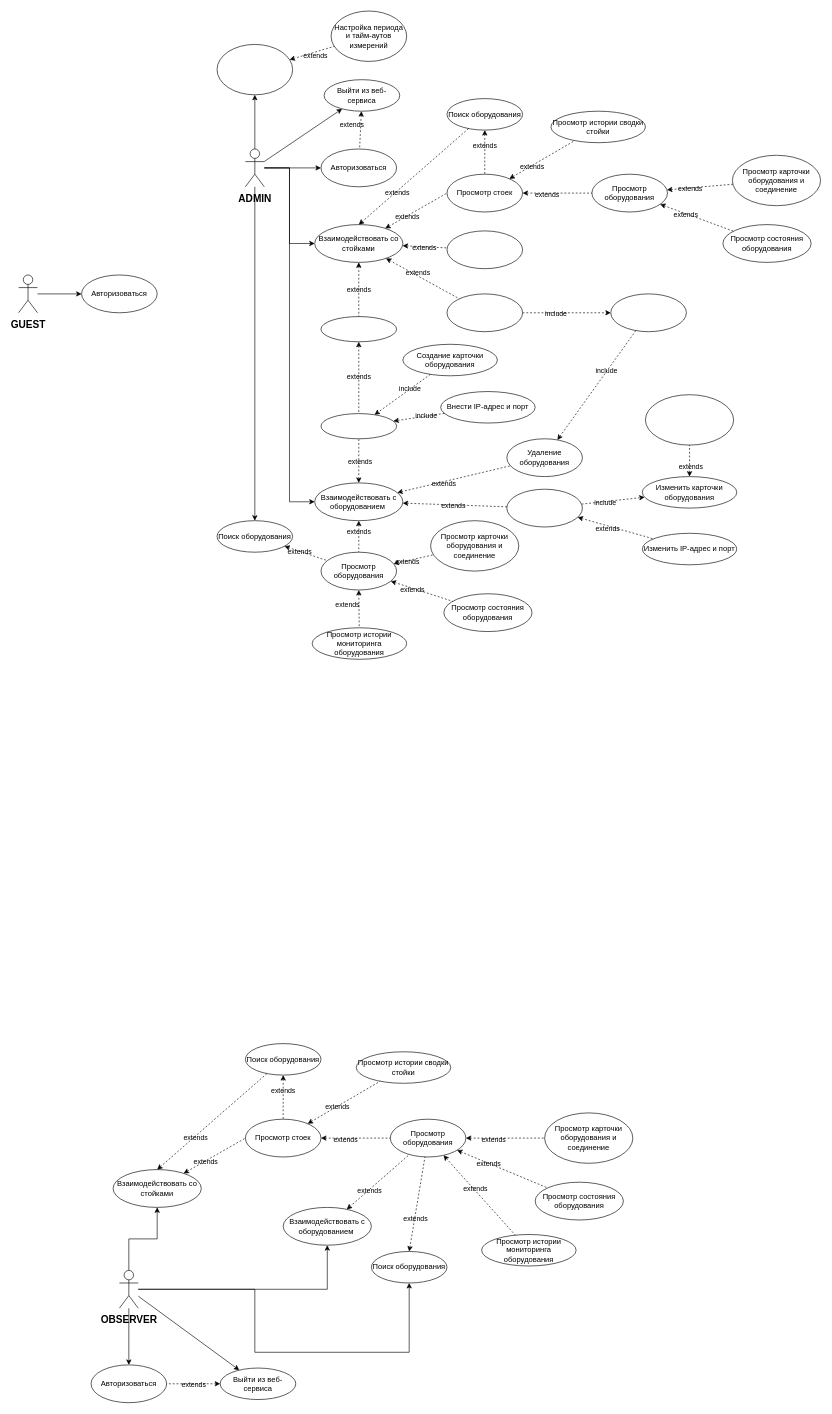
This 832x1414 diagram has some shape labels left out. Here are the shapes that lost their labels. From the top down, the centre of each, then its label:
[254,69]: Взаимодействие с мониторингом
[484,249]: Изменение стоек
[358,329]: Добавление стоек
[484,312]: Удаление стоек
[648,312]: Подтверждение удаления
[358,426]: Добавление оборудование
[689,419]: Включить/выключить мониторинг
[544,508]: Изменение оборудования
